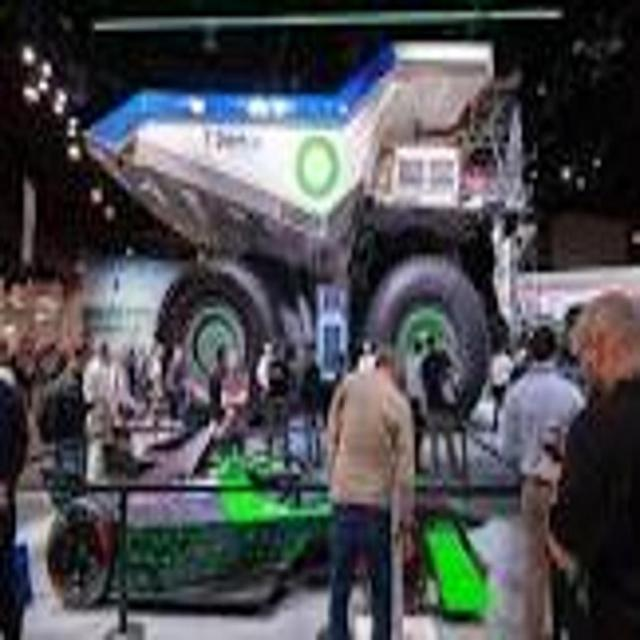dump_truck: (84, 41, 526, 430)
